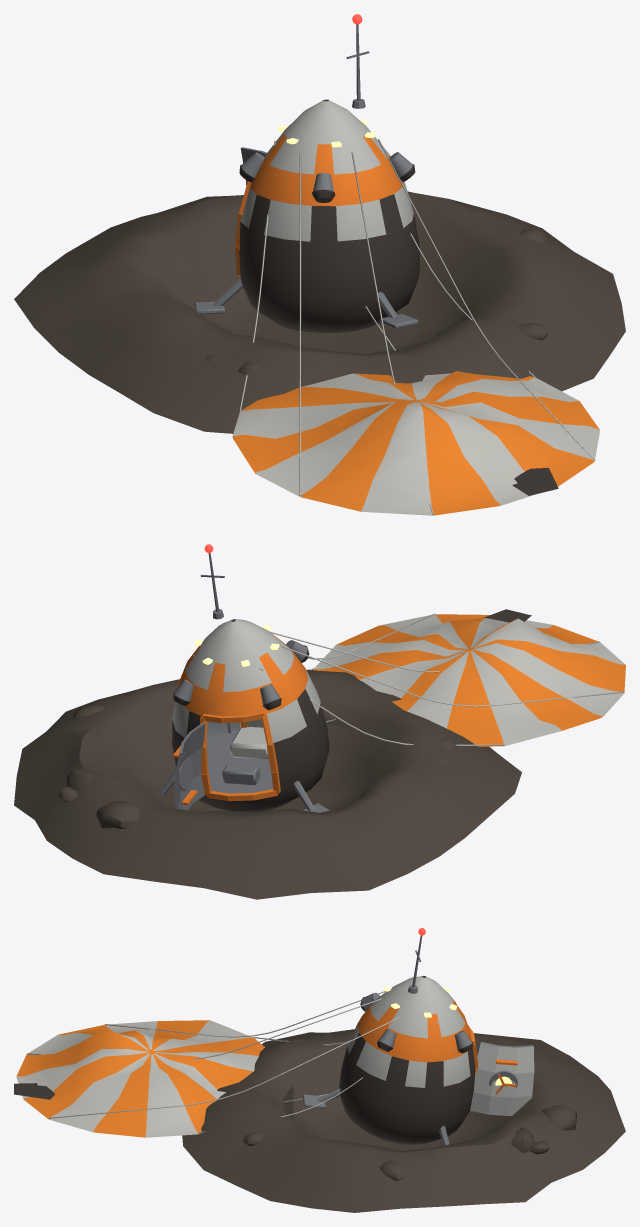
Rendered from drop_pod_a.glb.
The picture shows the model from 3 angles, top to bottom: view 1: azimuth 30°, elevation 25°; view 2: azimuth 150°, elevation 25°; view 3: azimuth 270°, elevation 25°; orthographic projection. The views are drawn at different scales.
Visible parts, largest first — view 1: Crater, Chute, Body, ChuteLines; view 2: Crater, Chute, Body, Hatch, ChuteLines; view 3: Crater, Chute, Body, Hatch, ChuteLines.
Boxes of the visible parts, x1,y1,x2,y2 form: Crater: (14,191,625,495); Chute: (232,371,599,515); Body: (194,24,419,332); ChuteLines: (239,139,594,514); Crater: (14,609,531,899); Chute: (313,614,625,746); Body: (158,553,329,812); Hatch: (173,722,205,810); ChuteLines: (193,613,624,745); Crater: (14,1029,625,1212); Chute: (16,1020,264,1137); Body: (302,935,478,1145); Hatch: (470,1042,534,1115); ChuteLines: (27,991,458,1133).
Size of the model in its own units: 9.9 by 5.66 by 14.23.
